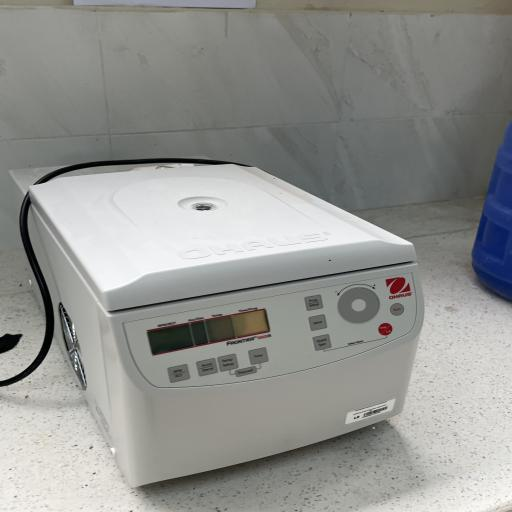Centrifuga_Ohaus_Frontier: (5, 148, 450, 496)
